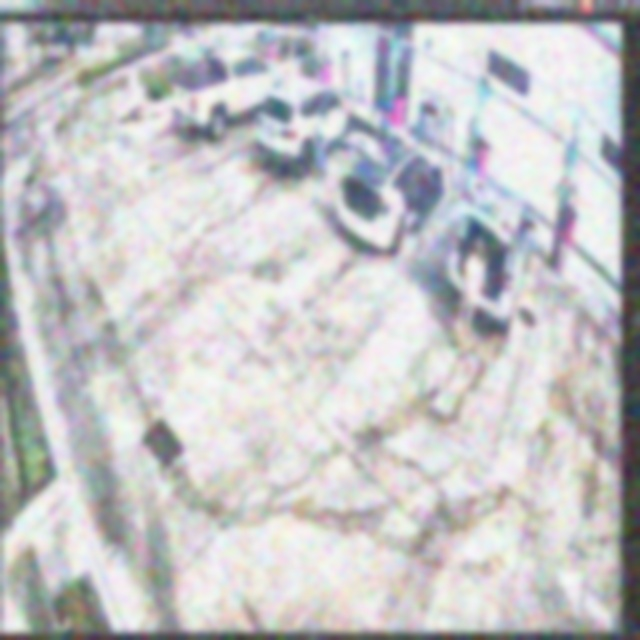Car: (334, 123, 445, 255), (447, 177, 534, 332), (264, 83, 357, 179)
